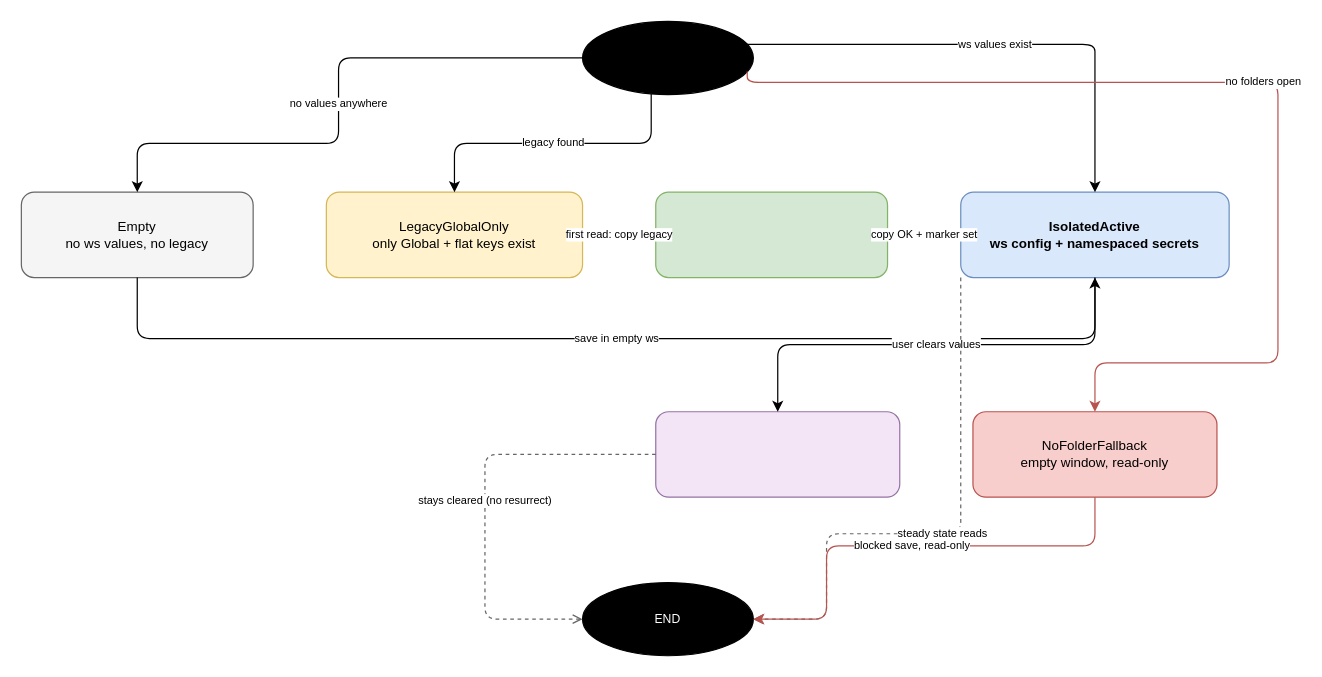
Some shapes in this 1322 by 677 pixel diagram are drawn without their labels. The centre of each missing label's shape, as x and y in pixels:
"ClearedAfterMigration user cleared ws values" goes at [777,454].
"Migrating copy legacy to ws scope" goes at [771,234].
"START workspace opened" goes at [667,57].
